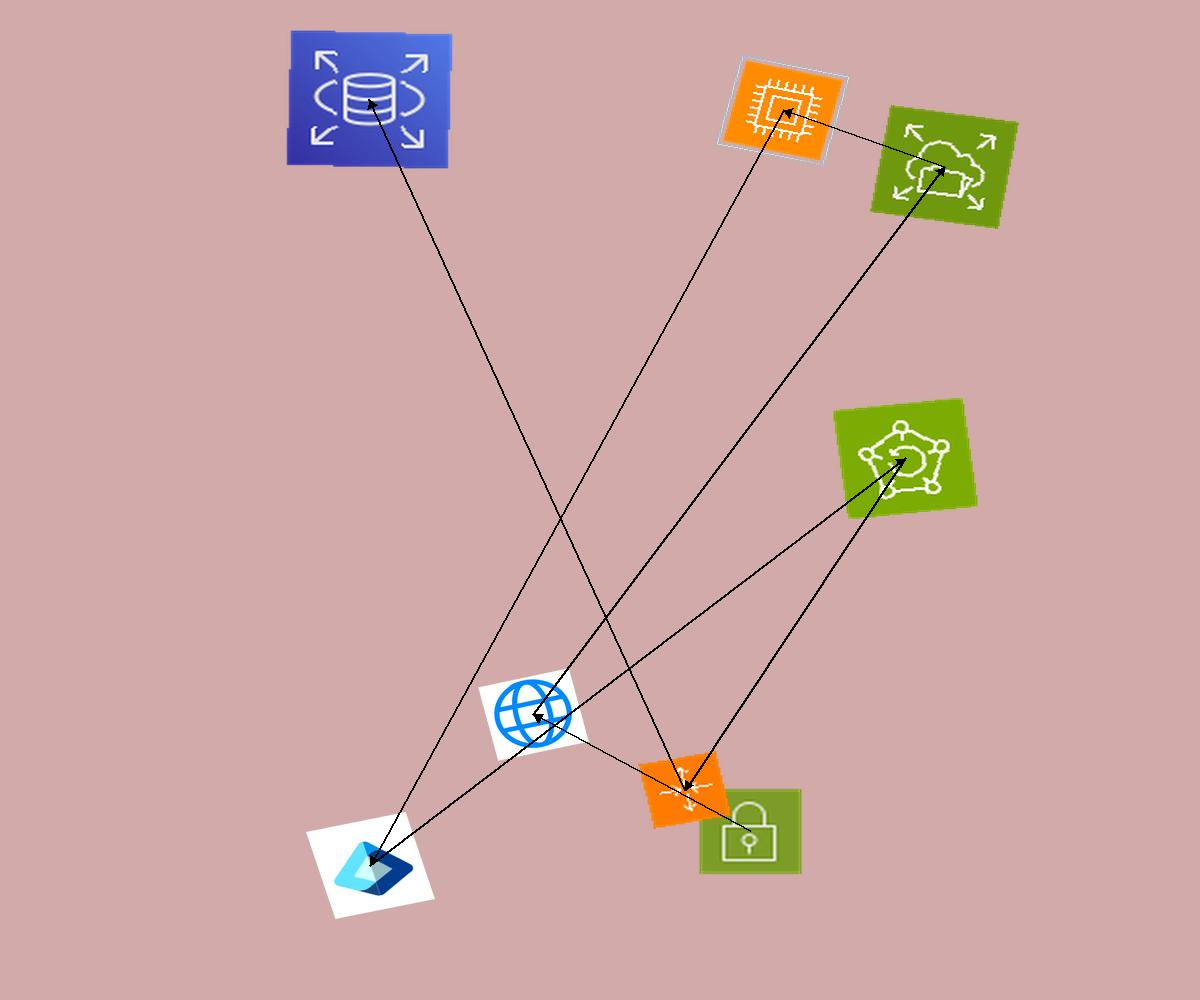AWS-Backup: (832, 397, 979, 520)
AWS-Category_Compute: (715, 54, 851, 167)
AWS-EFS: (870, 105, 1019, 229)
AWS-Public-subnet: (697, 787, 804, 876)
AWS-RDS: (285, 29, 454, 170)
AWS-Scaling-group: (638, 751, 732, 829)
Azure_http: (478, 668, 589, 761)
Azure_microsoft_entra: (306, 812, 435, 919)
